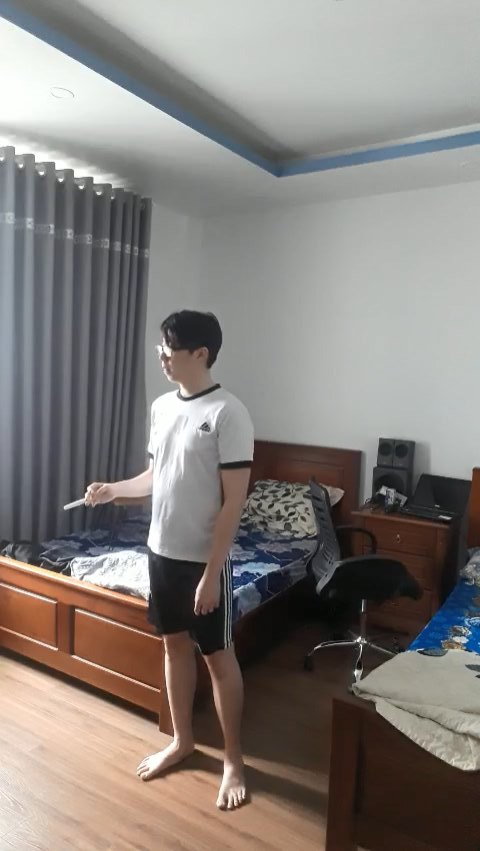cigarette: (63, 498, 86, 511)
person: (115, 301, 266, 817)
